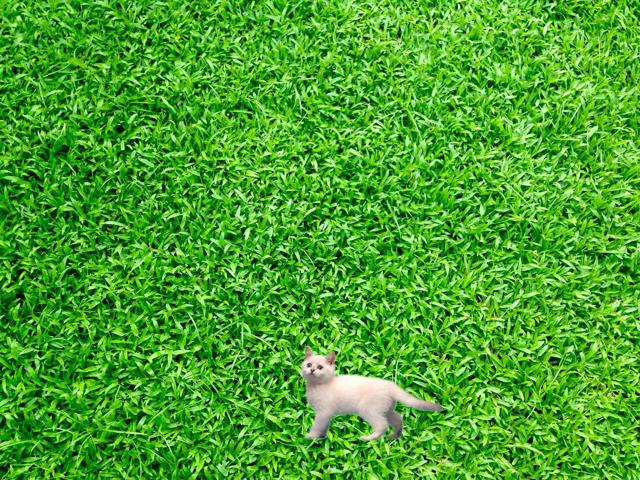cat: (293, 346, 441, 438)
